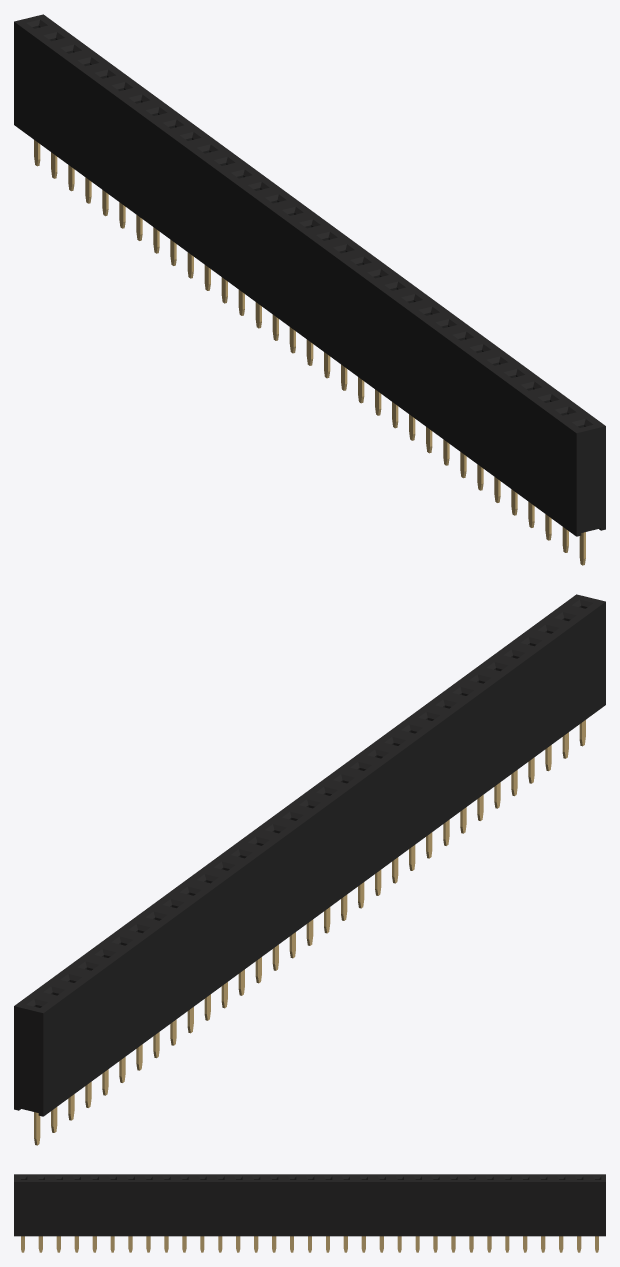
Rendered from kc-pinsocket_1x33_p2.54mm_vertical.glb.
3 renders of one model, top to bottom at view 1: azimuth 30°, elevation 25°; view 2: azimuth 150°, elevation 25°; view 3: azimuth 270°, elevation 25°, orthographic. The views are drawn at different scales.
Visible parts, largest first — view 1: 0_0_0_0, 0.75_0.5_0.25_0.9; view 2: 0_0_0_0, 0.75_0.5_0.25_0.9; view 3: 0_0_0_0, 0.75_0.5_0.25_0.9.
Part boxes in pixels (bbox=[...]): 0_0_0_0: bbox=[14, 14, 605, 536]; 0.75_0.5_0.25_0.9: bbox=[34, 140, 585, 565]; 0_0_0_0: bbox=[14, 594, 605, 1116]; 0.75_0.5_0.25_0.9: bbox=[34, 720, 585, 1145]; 0_0_0_0: bbox=[14, 1174, 605, 1236]; 0.75_0.5_0.25_0.9: bbox=[21, 1236, 598, 1252].
Bounding box in the file's own units: 0.2538 × 1.16 × 8.38.
